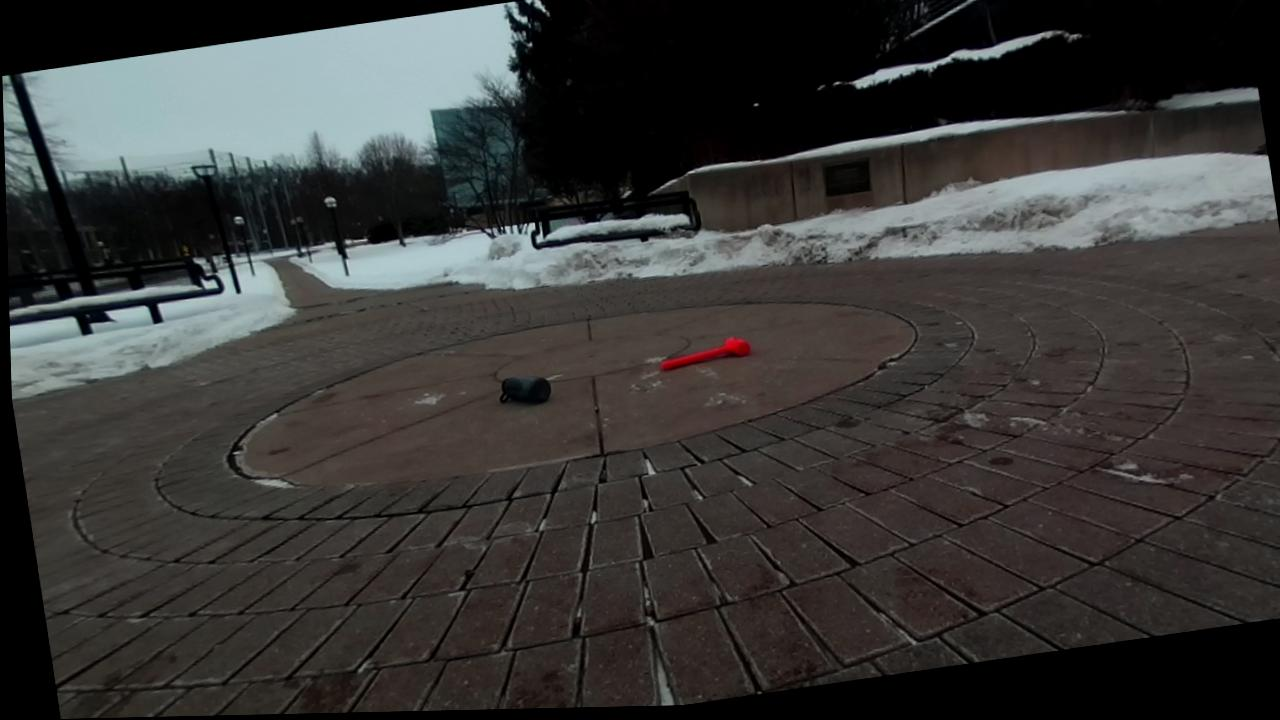bottle: (501, 376, 551, 402)
mallet: (661, 338, 750, 370)
